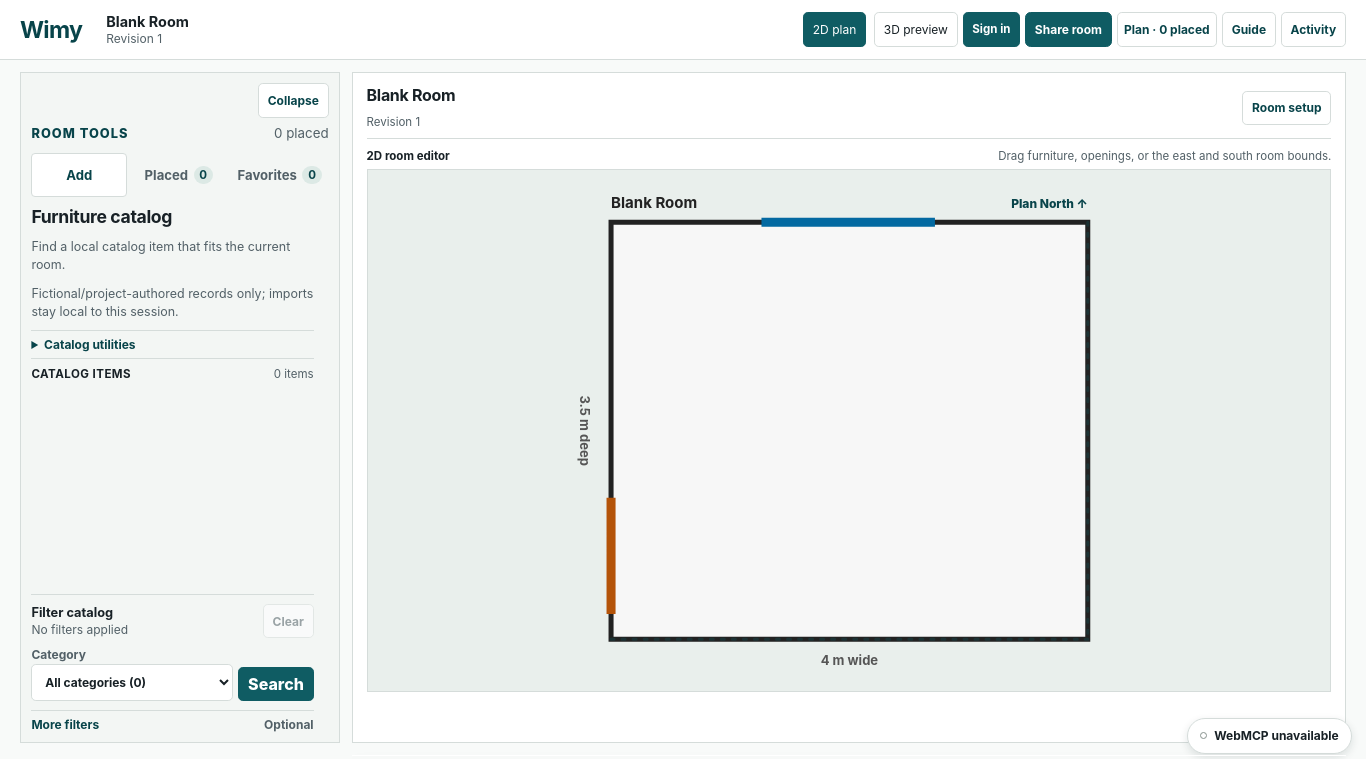
Test: App › rejects a stale room-setup draft instead of overwriting a newer room
Click the button "Room setup" at (1287, 108), box [1242,91,1331,125]
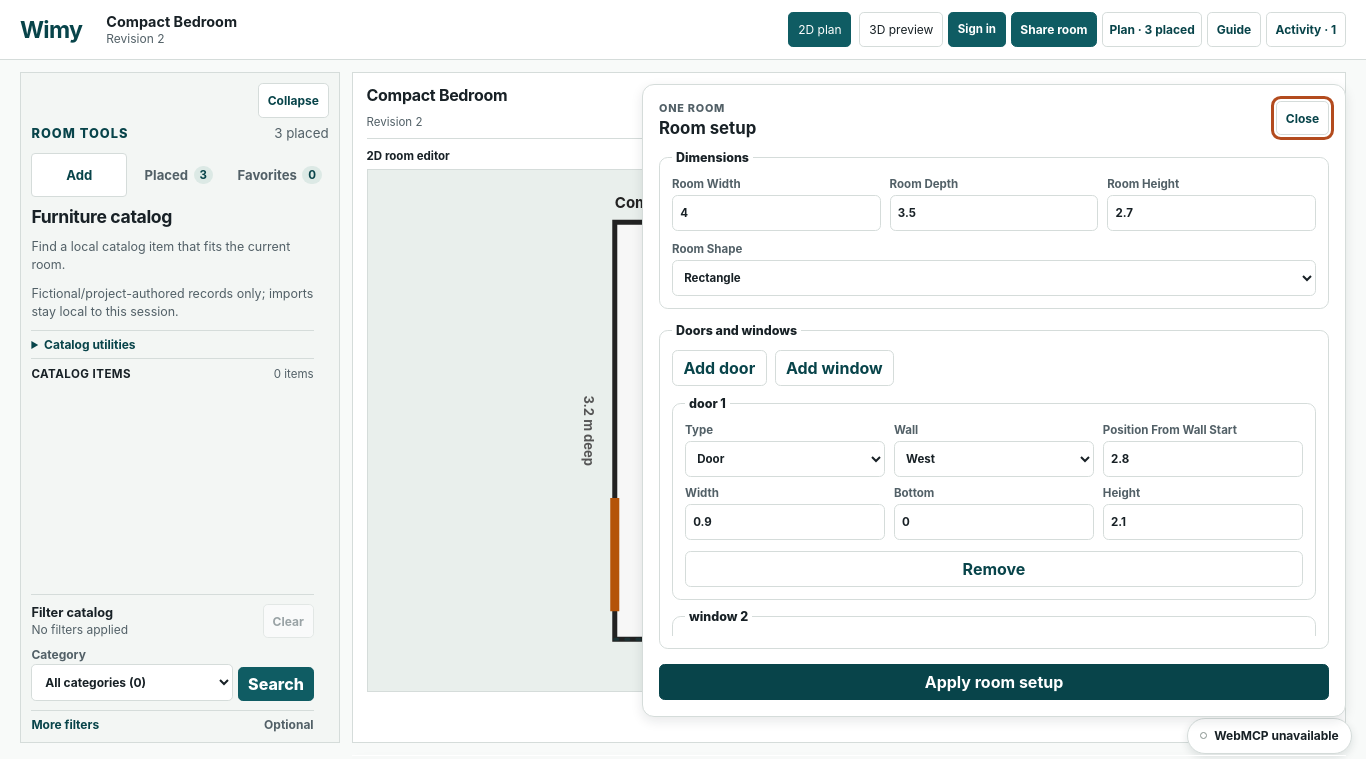
Click the button "Apply room setup" at (994, 682), box [659,664,1329,700]
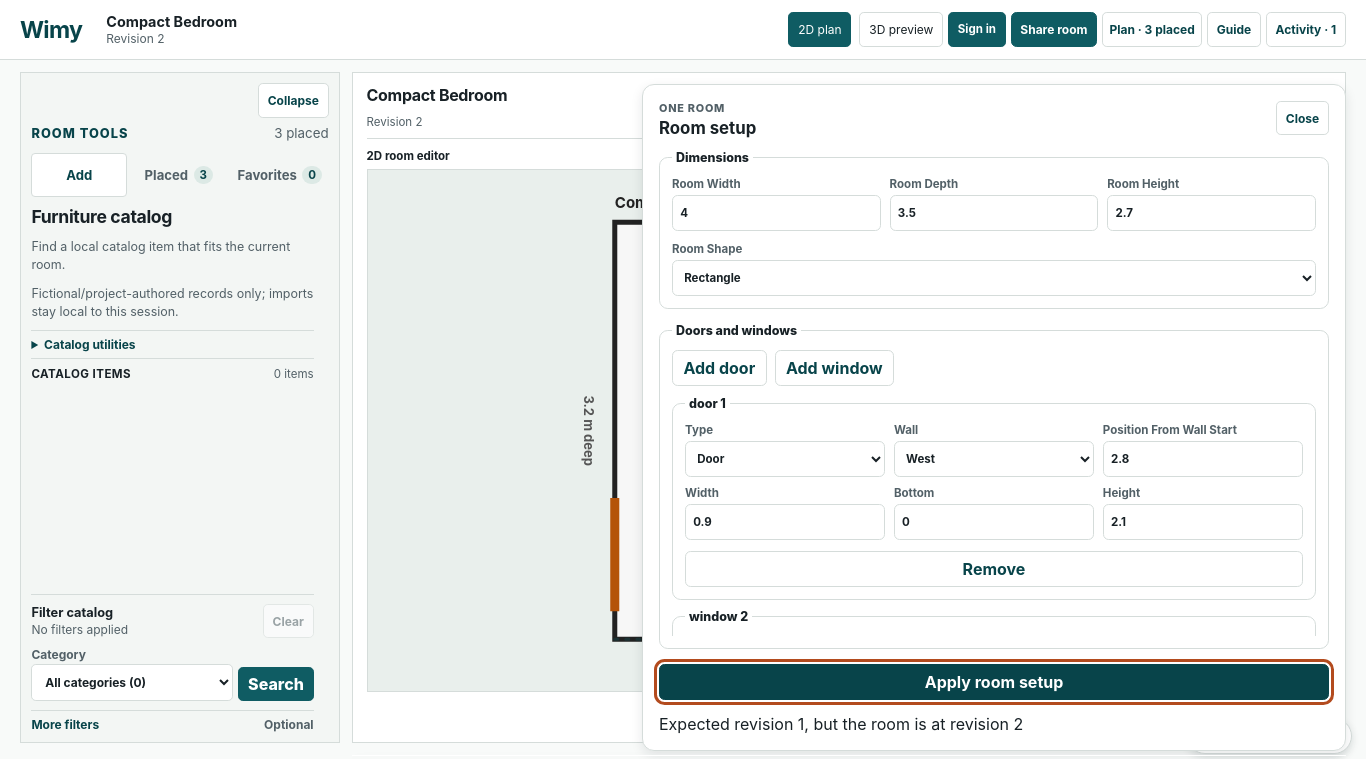
Expected: the text "Compact Bedroom" is shown, [106,13,237,30]
Expected: the message shows "revision 1", [659,714,1023,734]
